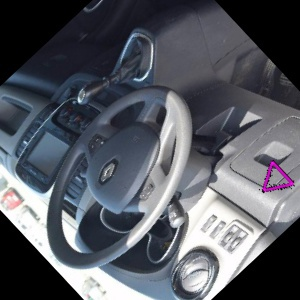triangle: (260, 156, 296, 196)
